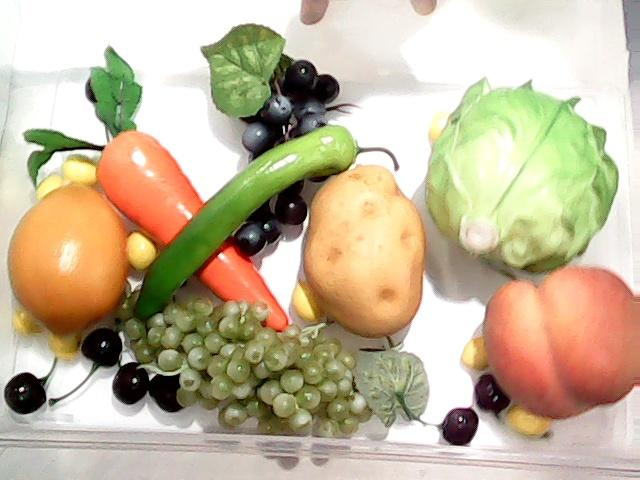cabbage: (418, 76, 628, 287)
carrot: (23, 40, 291, 334)
grape: (126, 318, 430, 446), (200, 26, 338, 255)
lemon: (6, 177, 134, 342)
peach: (480, 266, 640, 422)
pepper: (129, 119, 367, 325)
potato: (301, 164, 425, 340)
